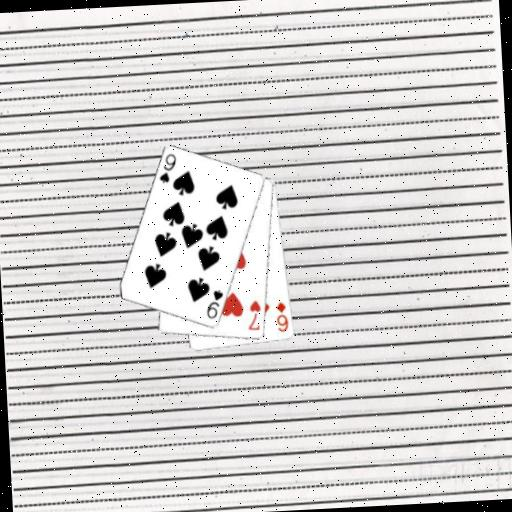6D: (274, 298, 291, 334)
7H: (244, 297, 264, 333)
9S: (155, 150, 179, 185), (202, 287, 226, 321)
